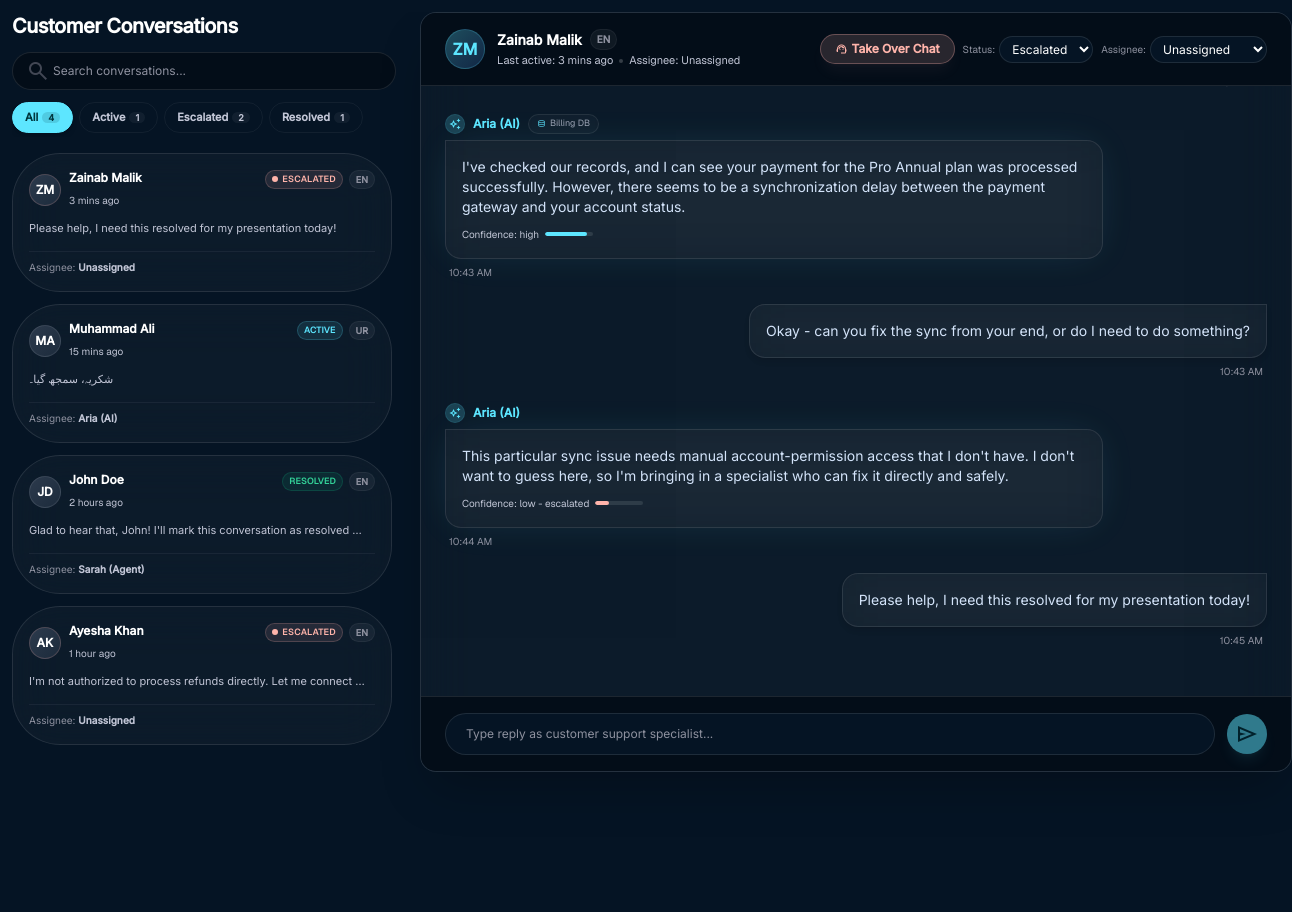
ConversationDashboardPage Component › displays chat details when selecting a conversation
(page scrolled)
Click John Doe card to open it
Click the heading "John Doe": [96, 480] box left=69, top=472, right=124, bottom=488
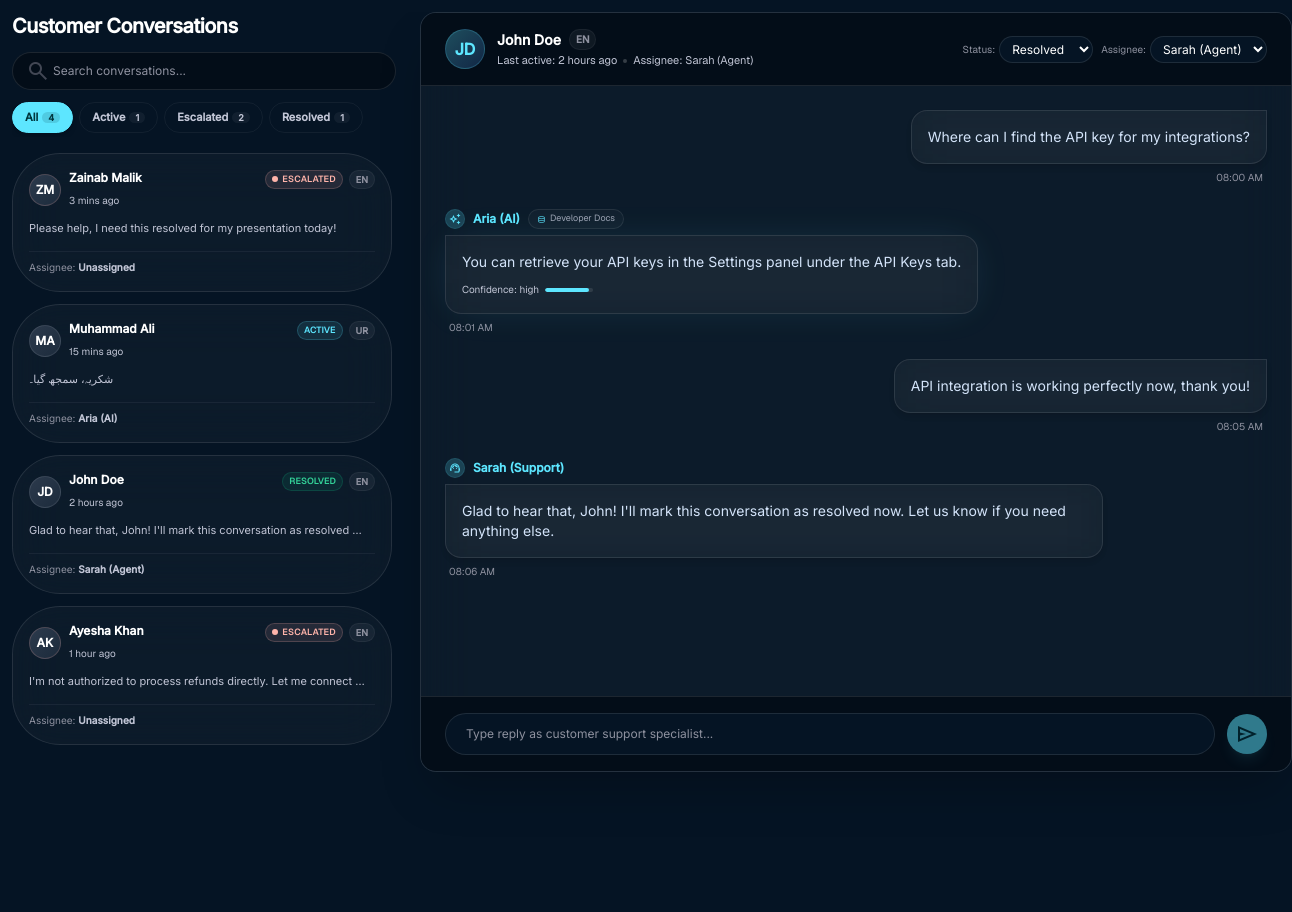
expect the heading "John Doe" in the row of "Status:" is shown: met, box left=497, top=30, right=561, bottom=50
expect the text "Assignee: Sarah (Agent)" is shown: met, box left=633, top=52, right=753, bottom=69
expect the text "Where can I find the API key for my integrations?" is shown: met, box left=928, top=127, right=1250, bottom=147
